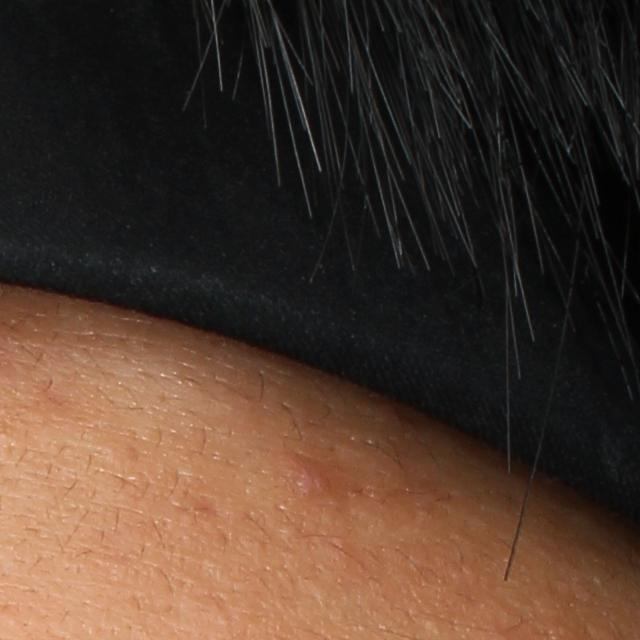papule: (287, 450, 339, 503)
